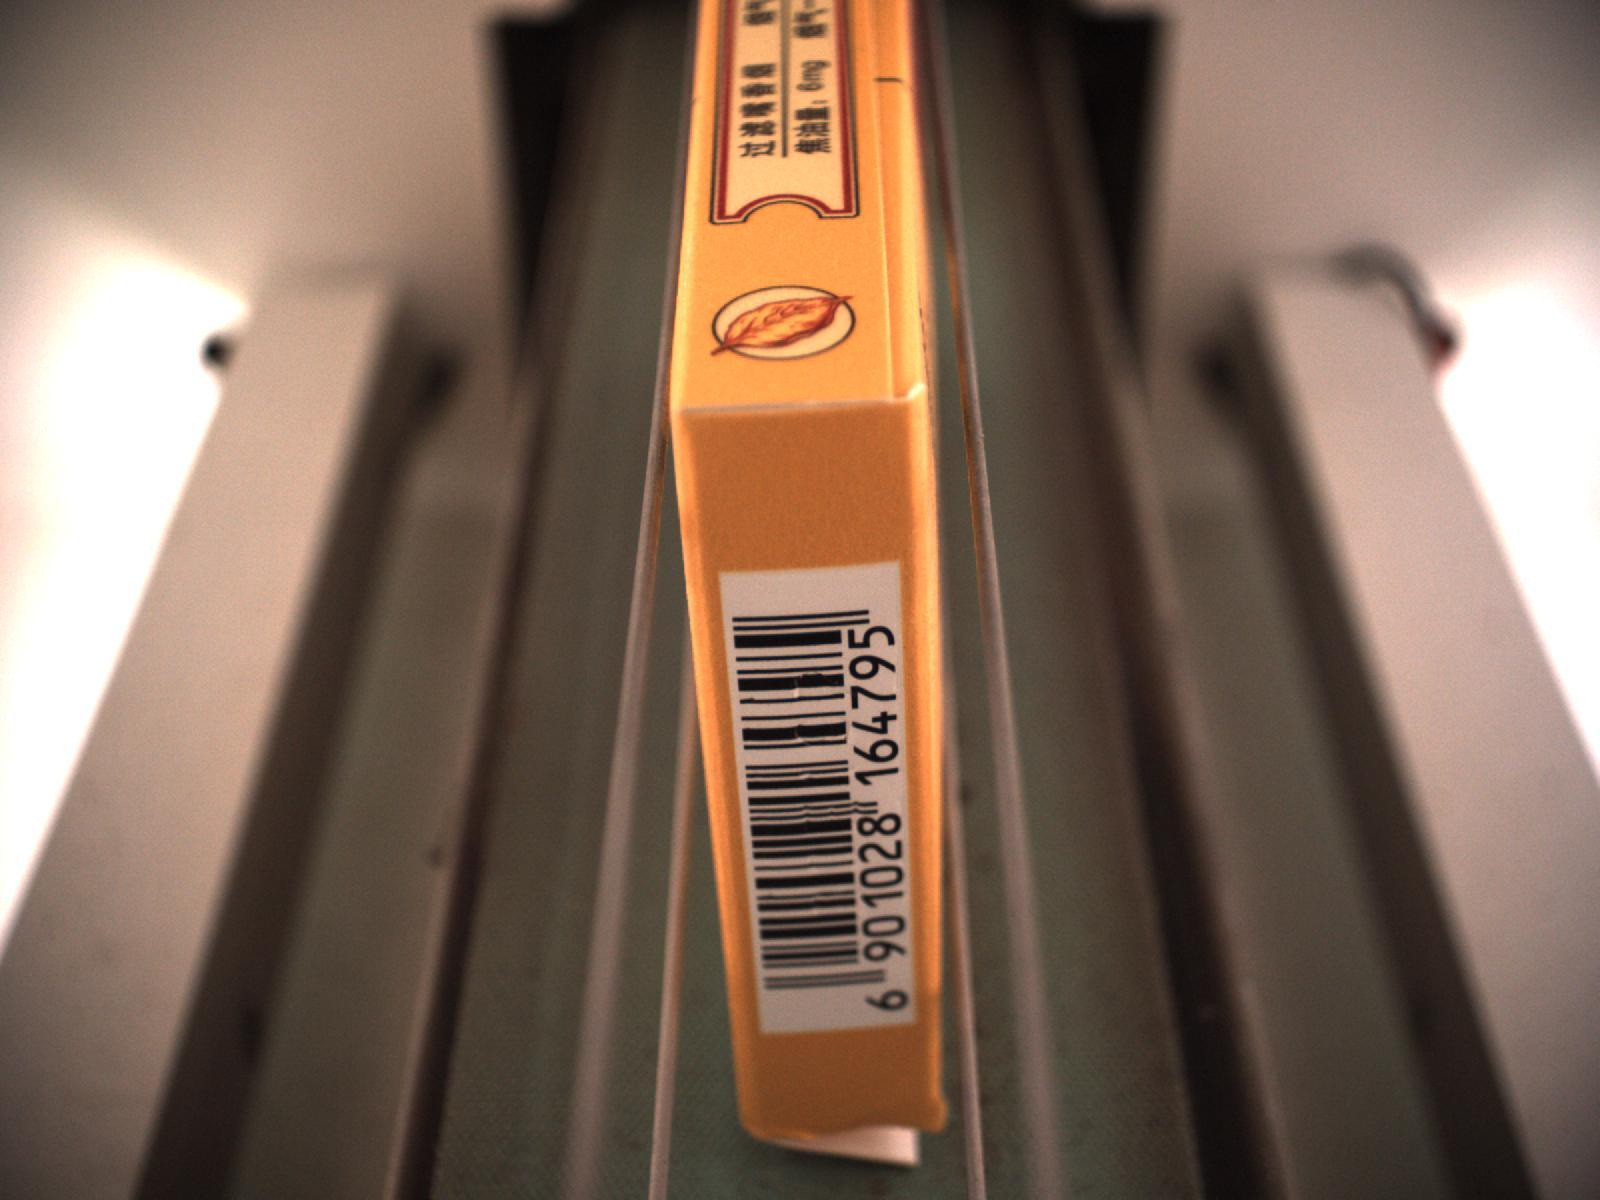skewed_bottom_3: (745, 1111, 951, 1174)
skewed_upper_3: (859, 0, 932, 416)
